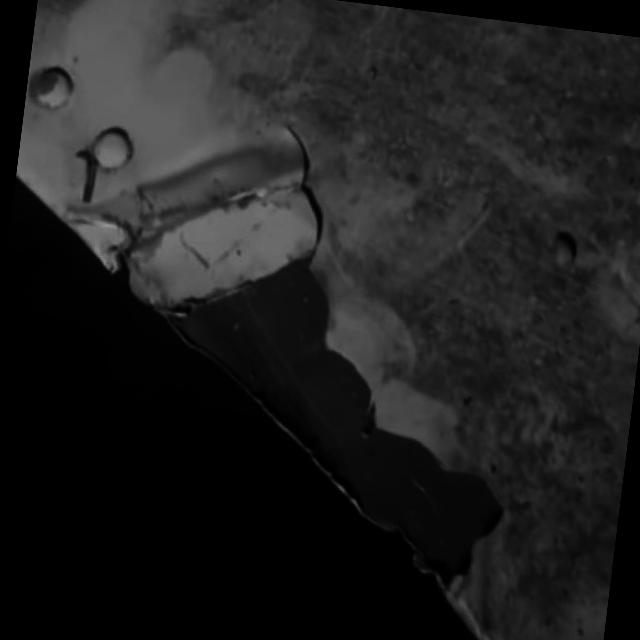crack: (264, 114, 400, 271)
